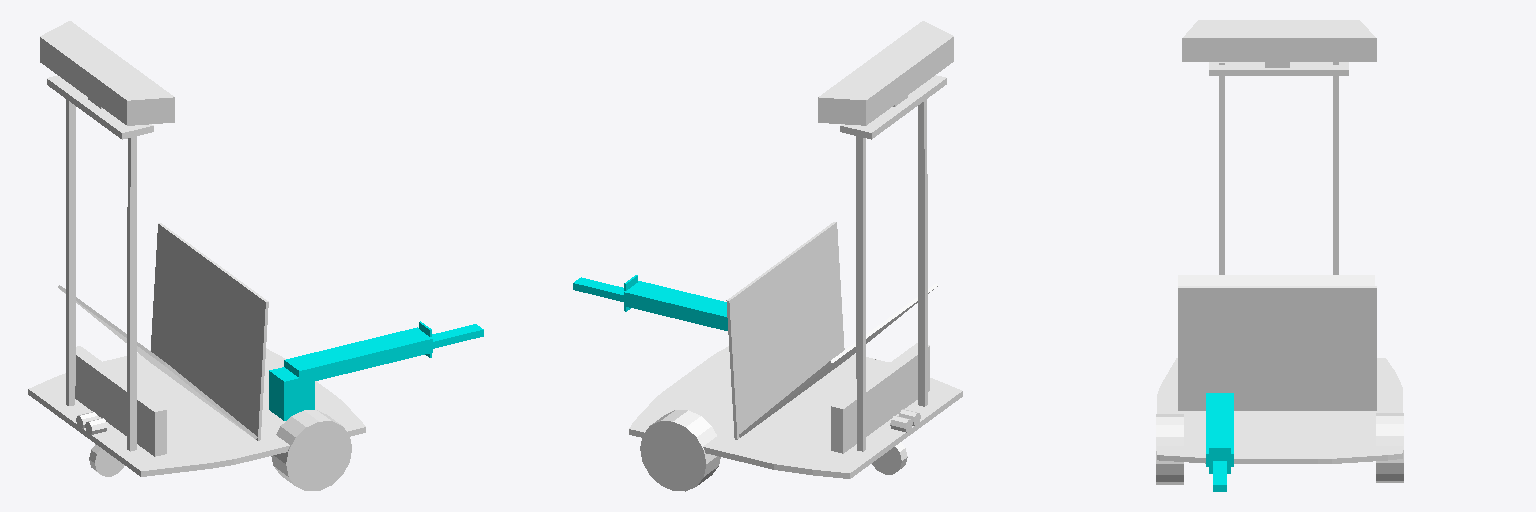
robot.urdf — robik:
<!-- (x -dopredu +dozadu) (y -levo +vpravo) (z -dolu +nahoru) -->
<robot name="robik">

	<link name="base_link">
		<visual>
			<origin xyz="0 0 0.06" rpy="1.57 0 -1.57" />
			<geometry>
				<mesh filename="package://robik/model/robot_model_v2.dae"
					scale="1.0 1.0 1.0" />
			</geometry>
			<material name="clear">
				<color rgba="1 1 1 1" />
			</material>
		</visual>
	</link>

	<joint name="laser_joint" type="fixed">
		<parent link="base_link" />
		<child link="laser_link" />
		<origin xyz="-0.25 0 0.08" rpy="0 0 3.1415" />
	</joint>

	<link name="laser_link" />


	<link name="yaw_link">
		<visual>
			<geometry>
				<box size="0.045 0.04 0.06" />
			</geometry>
			<material name="Cyan">
				<color rgba="0 1.0 1.0 1.0" />
			</material>
		</visual>
	</link>

	<joint name="yaw_joint" type="revolute">
		<parent link="base_link" />
		<child link="yaw_link" />
		<origin xyz="0.02 -0.08 0.11" rpy="0 0 0" />
		<axis xyz="0 0 -1" />
		<limit lower="-1.8675023" upper="1.099557429" effort="1000" velocity="1" />
	</joint>


	<link name="shoulder_link">
		<visual>
			<origin xyz="0 0.0675 0" rpy="0 0 0"/>
			<geometry>
				<box size="0.04 0.135 0.02" />
			</geometry>
			<material name="Cyan">
				<color rgba="0 1.0 1.0 1.0" />
			</material>
		</visual>
	</link>

	<joint name="shoulder_joint" type="revolute">
		<parent link="yaw_link" />
		<child link="shoulder_link" />
		<origin xyz="0.0 0 0.03" rpy="0 0 -1.570796327" />
		<axis xyz="1 0 0" />
		<limit lower="0" upper="2.094395102" effort="1000" velocity="1" />
	</joint>


	<link name="elbow_link">
		<visual>
			<origin xyz="0 0.0325 0" rpy="0 0 0"/>
			<geometry>
				<box size="0.04 0.065 0.02" />
			</geometry>
			<material name="Cyan">
				<color rgba="0 1.0 1.0 1.0" />
			</material>
		</visual>
	</link>

	<joint name="elbow_joint" type="revolute">
		<parent link="shoulder_link" />
		<child link="elbow_link" />
		<origin xyz="0 0.135 0" rpy="0 0 0" />
		<axis xyz="1 0 0" />
		<limit lower="-1.919862177" upper="0.6981317008" effort="1000" velocity="1" />
	</joint>


	<link name="roll_link">
		<visual>
			<geometry>
				<box size="0.03 0.003 0.04" />
			</geometry>
			<material name="Cyan">
				<color rgba="0 1.0 1.0 1.0" />
			</material>
		</visual>
	</link>

	<joint name="roll_joint" type="revolute">
		<parent link="elbow_link" />
		<child link="roll_link" />
		<origin xyz="0 0.065 0" rpy="0 0 0" />
		<axis xyz="0 1 0" />
		<limit lower="-1.570796327" upper="1.570796327" effort="1000" velocity="1" />
	</joint>


	<link name="clamp_link">
		<visual>
			<origin xyz="0 0.04 0" rpy="0 0 0"/>
			<geometry>
				<box size="0.02 0.08 0.01" />
			</geometry>
			<material name="Cyan">
				<color rgba="0 1.0 1.0 1.0" />
			</material>
		</visual>
	</link>

	<joint name="clamp_joint" type="revolute">
		<parent link="roll_link" />
		<child link="clamp_link" />
		<origin xyz="0 0.001 -0.005" rpy="0 0 0" />
		<axis xyz="-1 0 0" />
		<limit lower="0" upper="0.6981317008" effort="1000" velocity="1" />
		<!--<mimic joint="clamp_joint" multiplier="-1" offset="0"/>-->
	</joint>

	<link name="left_wheel" />
	<link name="right_wheel" />

	<joint name="wheel_left_joint" type="continuous">
		<parent link="base_link"/>
		<child link="left_wheel"/>
	</joint>

	<joint name="wheel_right_joint" type="continuous">
		<parent link="base_link"/>
		<child link="right_wheel"/>
	</joint>

</robot>

--- Render facts (derived) ---
3 views of the same robot in one strip: view 1: azimuth 30°, elevation 25°; view 2: azimuth 150°, elevation 25°; view 3: azimuth 270°, elevation 25° (orthographic).
Robot: robik — 9 links, 8 joints (5 revolute, 2 continuous, 1 fixed); root link base_link; default pose: all joints at 0.
Visible links, largest first — view 1: base_link, shoulder_link, yaw_link, elbow_link, clamp_link; view 2: base_link, shoulder_link, elbow_link, clamp_link; view 3: base_link, shoulder_link.
Link boxes in pixels (x1,y1,x2,y2): base_link: (28, 21, 365, 490); shoulder_link: (284, 338, 389, 380); yaw_link: (269, 367, 314, 420); elbow_link: (375, 327, 432, 362); clamp_link: (432, 324, 483, 348); base_link: (629, 21, 962, 491); shoulder_link: (667, 291, 727, 330); elbow_link: (624, 281, 681, 316); clamp_link: (573, 277, 623, 301); base_link: (1156, 20, 1403, 484); shoulder_link: (1206, 394, 1233, 433).
Size in the robot's own frame: 0.5468 by 0.3474 by 0.5924 metres.
Meshes: 1 distinct files referenced, 1 mesh visuals loaded (1 Collada DAE).